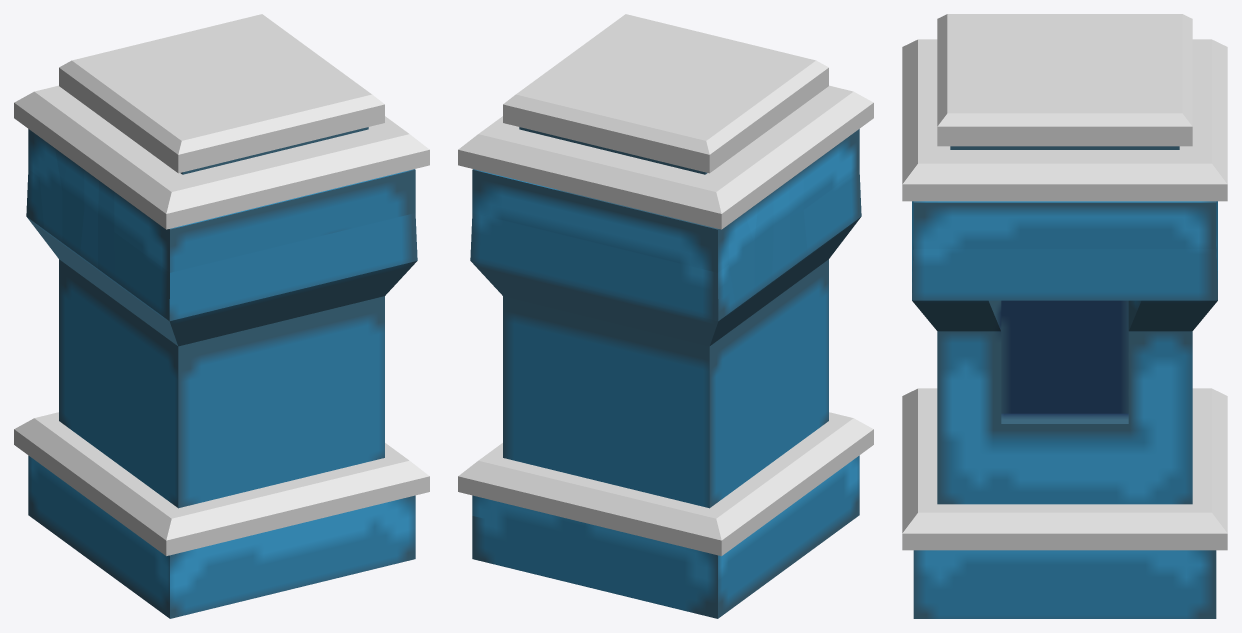
File: fbx_stonepillar.fbx
3 renders of one model, left to right at view 1: azimuth 30°, elevation 25°; view 2: azimuth 150°, elevation 25°; view 3: azimuth 270°, elevation 25°, orthographic. The views are drawn at different scales.
Visible parts, largest first — view 1: Cube, Cube.001, Cube.002, Cube.003; view 2: Cube, Cube.001, Cube.002, Cube.003; view 3: Cube, Cube.001, Cube.002, Cube.003.
Part boxes in pixels (x1=…): Cube: x1=26, y1=127, x2=417, y2=618; Cube.001: x1=59, y1=14, x2=384, y2=173; Cube.002: x1=14, y1=85, x2=429, y2=229; Cube.003: x1=14, y1=412, x2=429, y2=556; Cube: x1=470, y1=127, x2=861, y2=618; Cube.001: x1=503, y1=14, x2=828, y2=173; Cube.002: x1=458, y1=85, x2=873, y2=229; Cube.003: x1=458, y1=412, x2=873, y2=556; Cube: x1=912, y1=146, x2=1217, y2=618; Cube.001: x1=937, y1=14, x2=1192, y2=146; Cube.002: x1=902, y1=39, x2=1227, y2=201; Cube.003: x1=902, y1=388, x2=1227, y2=550.
Size of the model in its own units: 15.94 by 26.56 by 15.94.
Materials: 1 (1 with a texture image).
